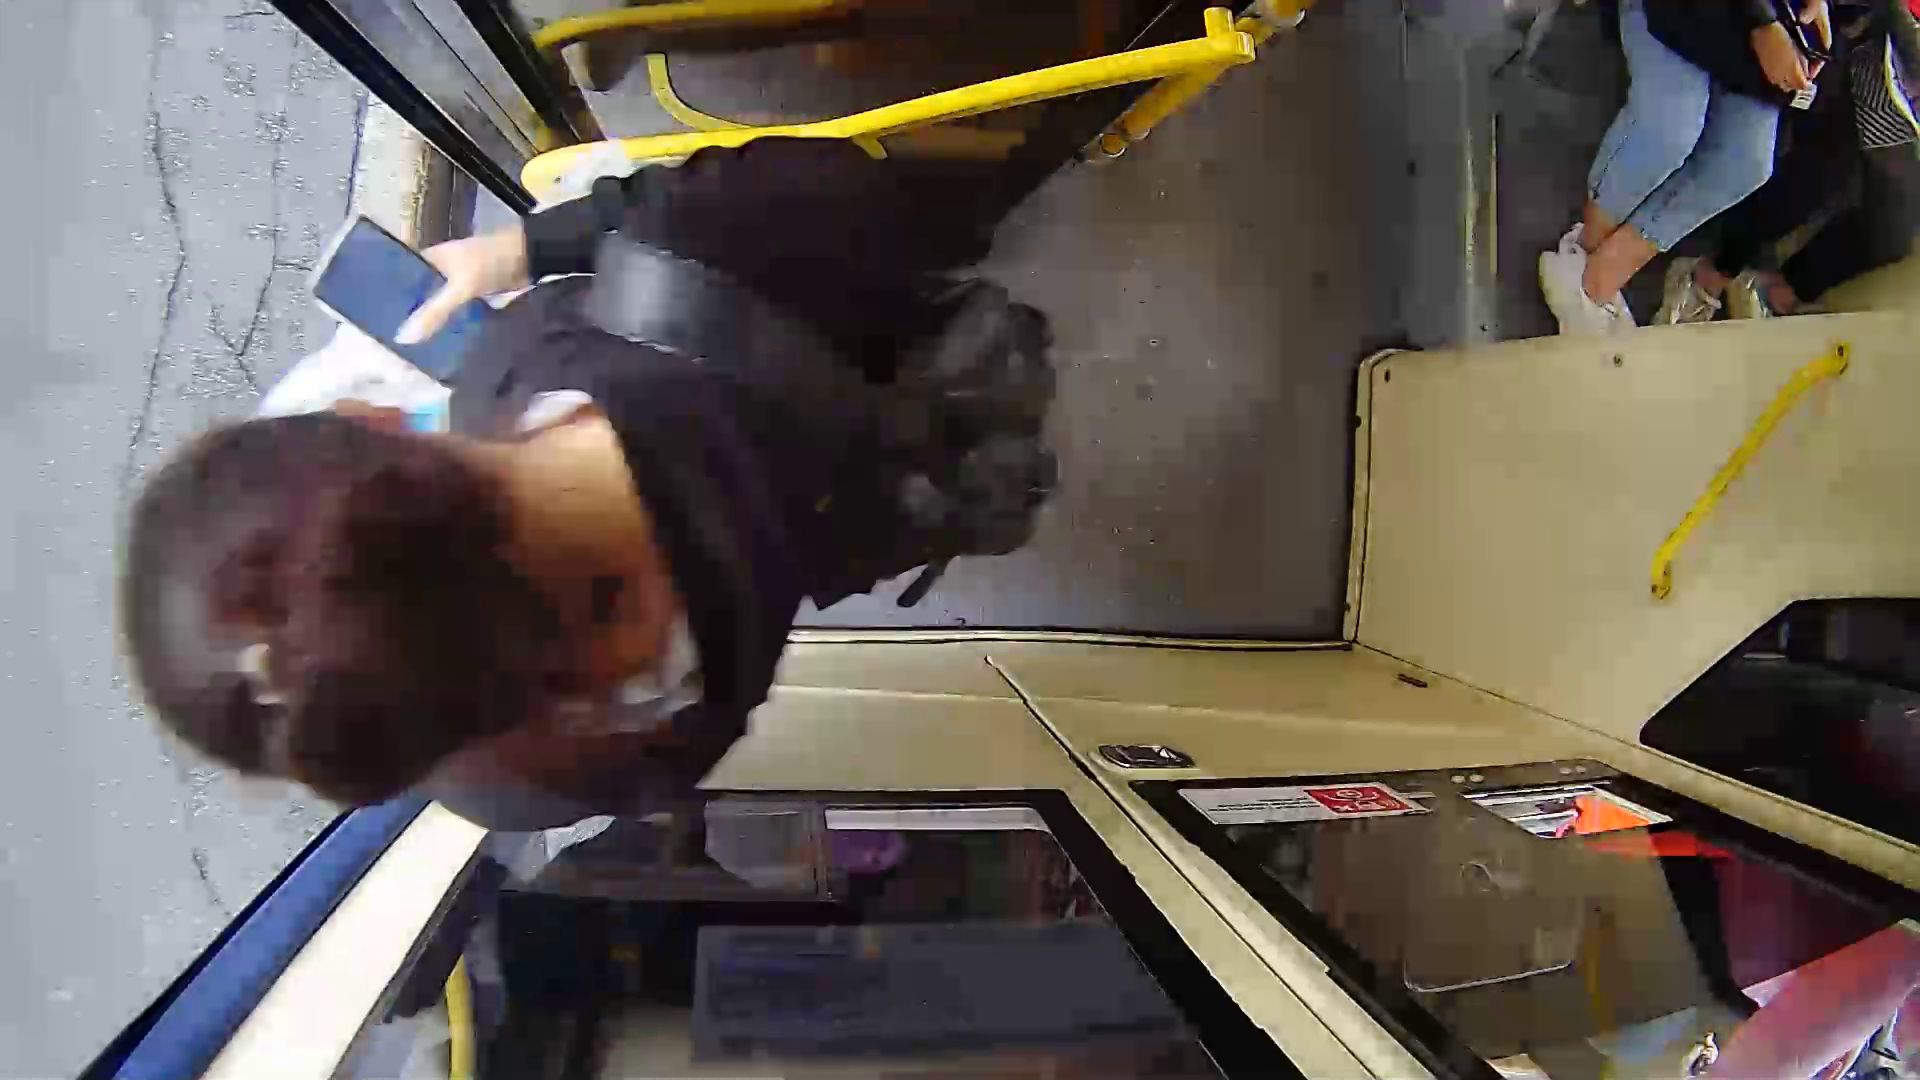person: (128, 140, 1083, 842)
